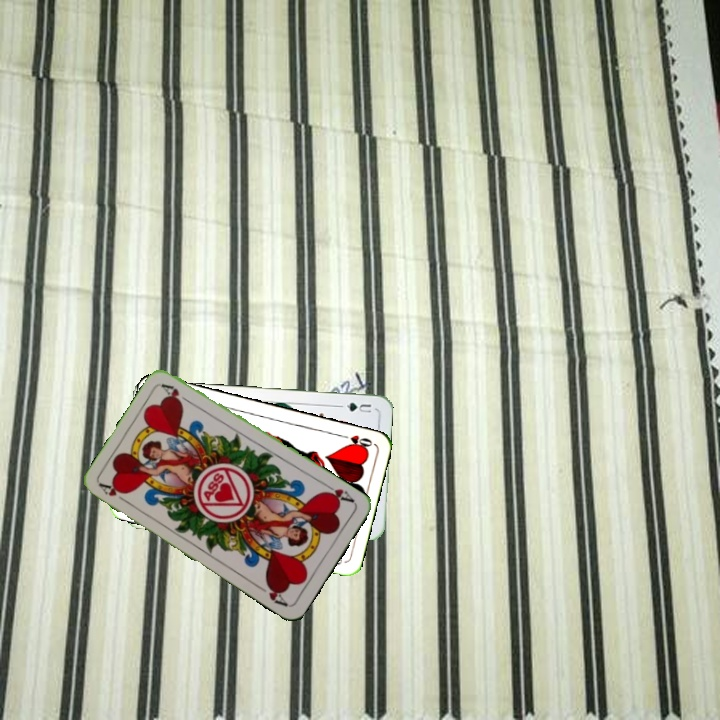GU: (336, 398, 374, 415)
HA: (95, 479, 132, 507), (319, 479, 357, 505)
HO: (335, 430, 375, 452)
